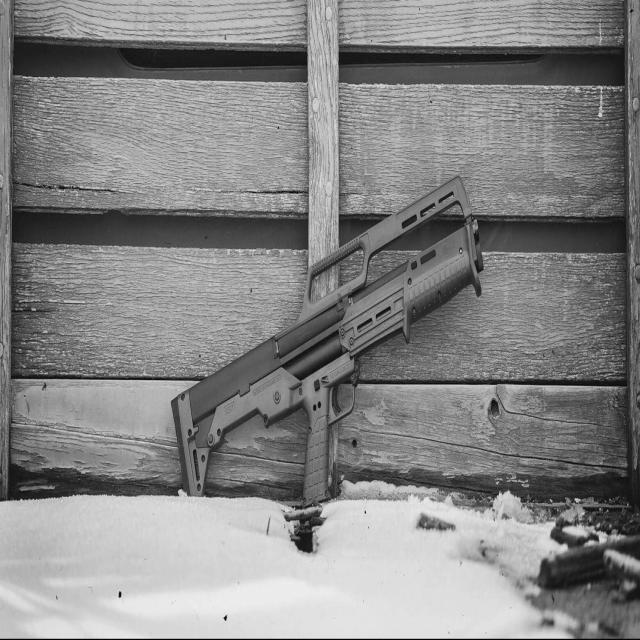Sub-machine-gun: (167, 146, 486, 562)
